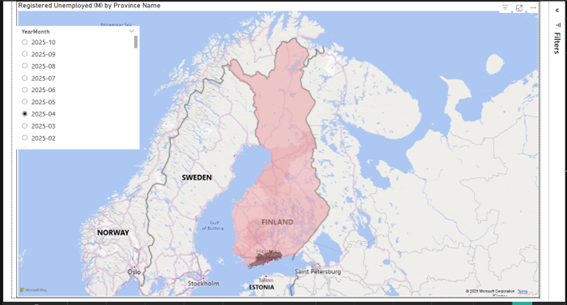

This screenshot's page, from the dashboard's own definition file:
{"tool":"powerbi","page":{"name":"Page 3","canvas":[1280,720],"ordinal":2},"visuals":[{"type":"azureMap","fields":{"Category":["KEHA_FACT.Province Name"]},"box":[9.6,0,1270.7,720.4],"z":0},{"type":"slicer","fields":{"Values":["Date.YearMonth"]},"box":[9.6,60.4,299.1,299.1],"z":2000}]}

Visuals, with their boxes on the page's 1280x720 design canvas (x1, y1, x2, y2). These are canvas units, not pixel positions in the 567x305 screenshot, which may show the page scaled, cropped or inside an application window:
azureMap - KEHA_FACT.Province Name: (10, 0, 1280, 720)
slicer - Date.YearMonth: (10, 60, 309, 360)
